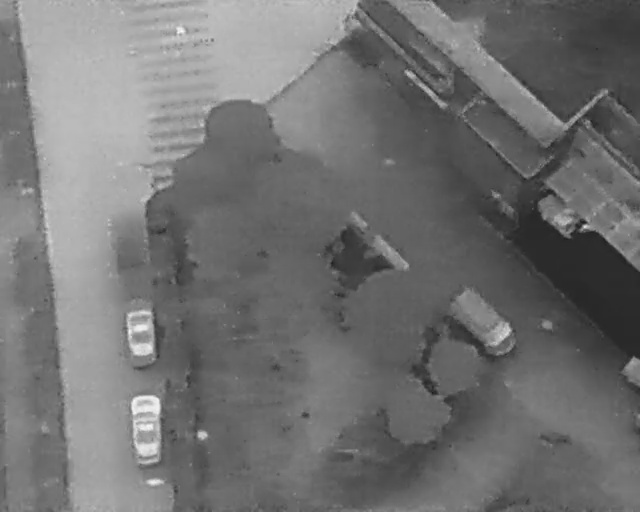Car: (440, 281, 523, 365), (121, 296, 159, 370), (131, 393, 163, 467)
